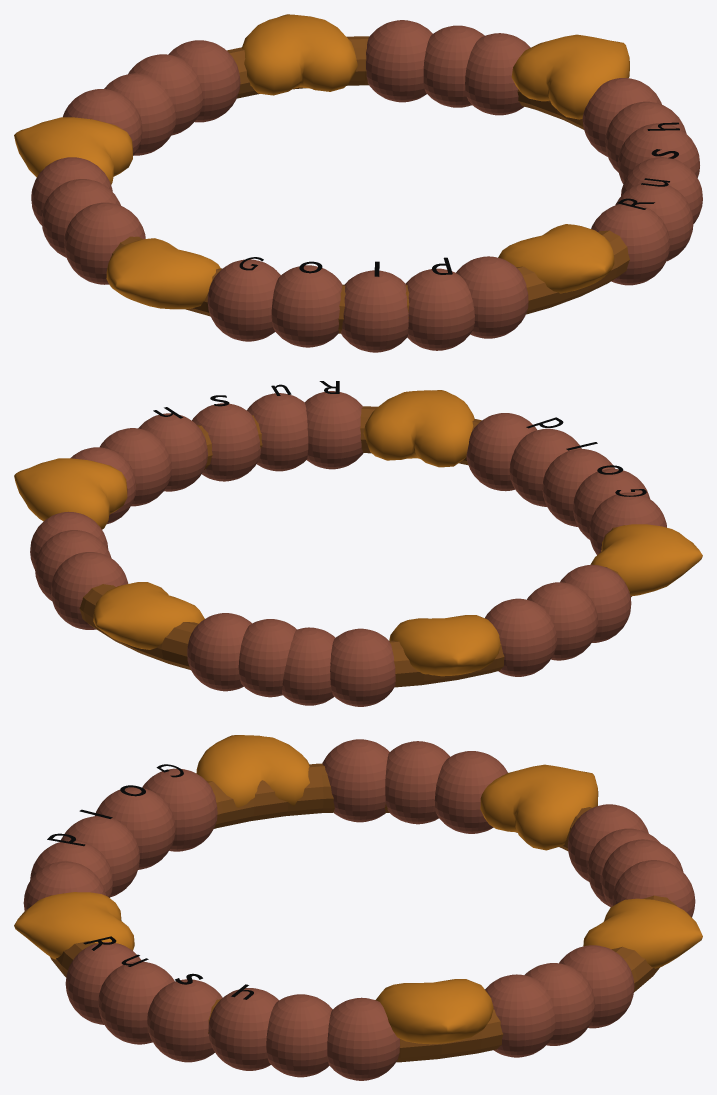
File: Evermore_GoldRush.fbx
3 views of the same model, one above another, from view 1: azimuth 30°, elevation 25°; view 2: azimuth 150°, elevation 25°; view 3: azimuth 270°, elevation 25° (orthographic). The views are drawn at different scales.
Visible parts, largest first — view 1: Torus.036; view 2: Torus.036; view 3: Torus.036.
Part boxes in pixels (x1,y1,x2,y2): Torus.036: (14, 14, 702, 352); Torus.036: (14, 390, 702, 706); Torus.036: (14, 735, 702, 1080).
Size of the model in its own units: 121 by 17.15 by 116.
